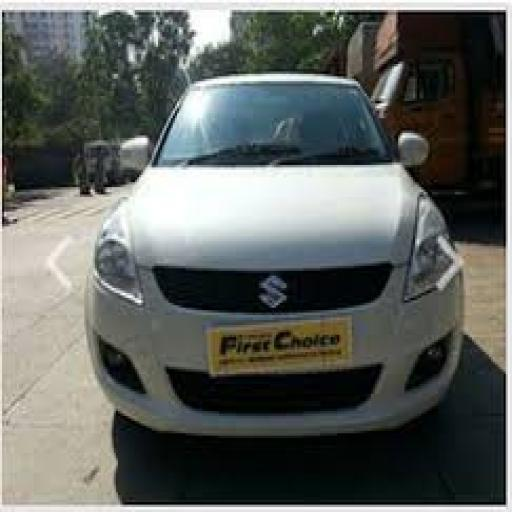car: (77, 55, 487, 471)
